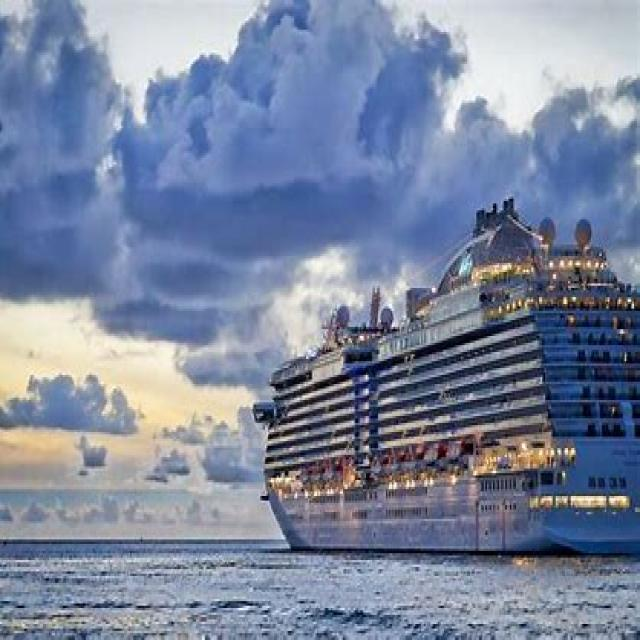PassengerShip: (114, 106, 638, 499)
